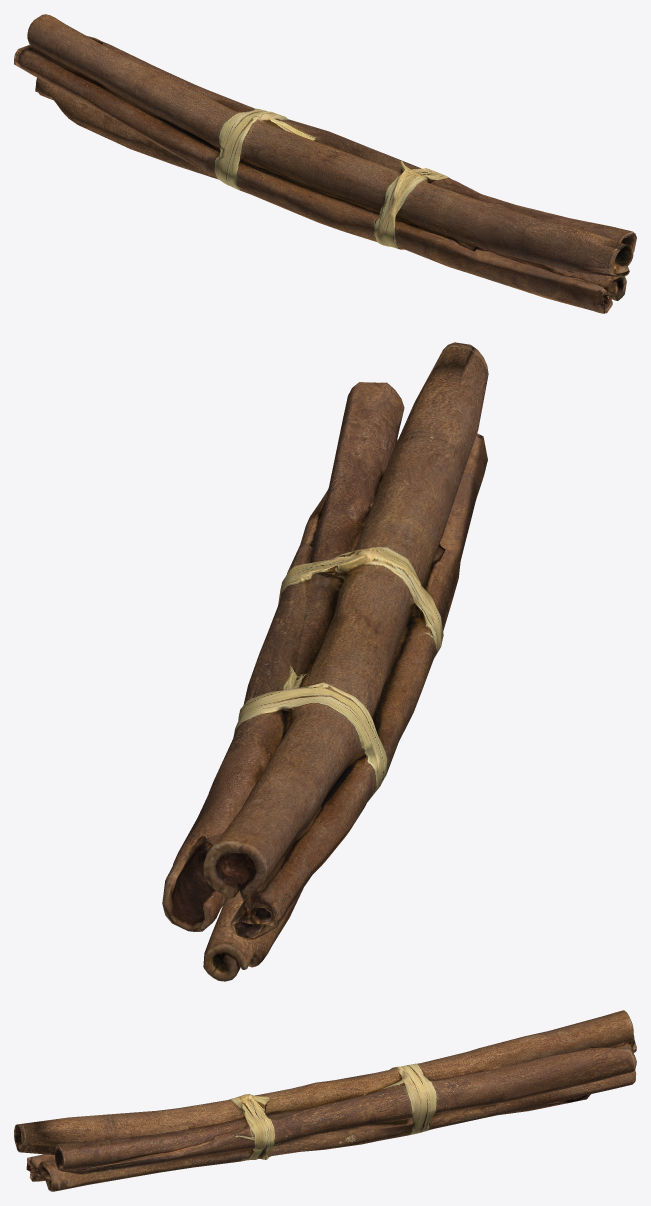
The picture shows the model from 3 angles, top to bottom: view 1: azimuth 30°, elevation 25°; view 2: azimuth 150°, elevation 25°; view 3: azimuth 270°, elevation 25°; orthographic projection. The views are drawn at different scales.
Parts seen in each view (by area): view 1: AM170_052_009; view 2: AM170_052_009; view 3: AM170_052_009.
Part boxes in pixels (bbox=[...]): AM170_052_009: bbox=[14, 14, 636, 313]; AM170_052_009: bbox=[162, 342, 488, 981]; AM170_052_009: bbox=[14, 1010, 636, 1191].
Size of the model in its own units: 9.11 by 2.98 by 19.94.
